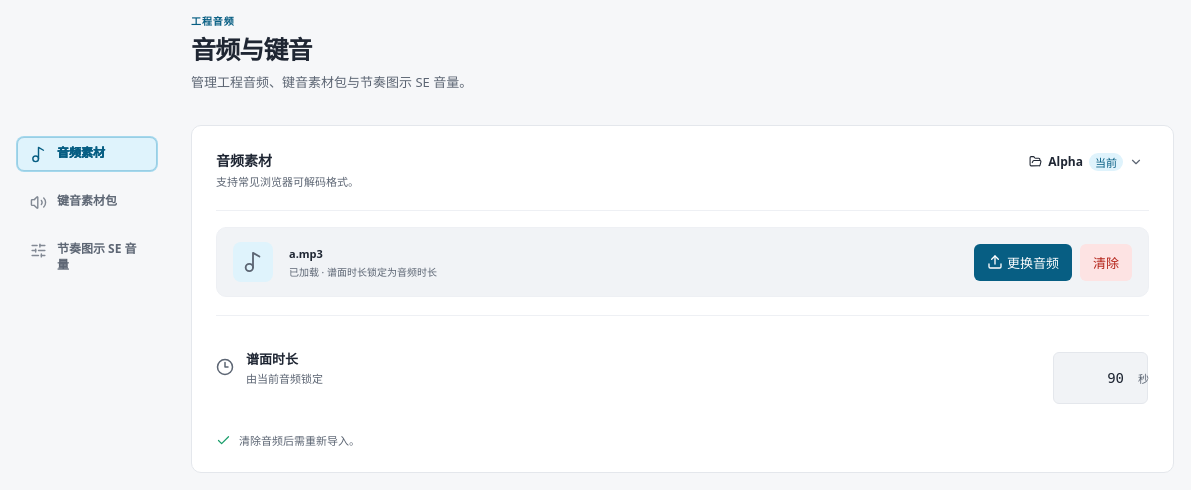
Test: 票 15 · 音频页 = 工程音频的唯一管理入口（作用域版） › 换作用域的那一瞬作用域条也不断档：先说出新工程的名字，正文再跟上
Expected: the text "a.mp3" is shown, [289,246,323,260]
Click the button with aria-label "作用域工程：".
click(1086, 162)  # box [1023,150,1149,174]
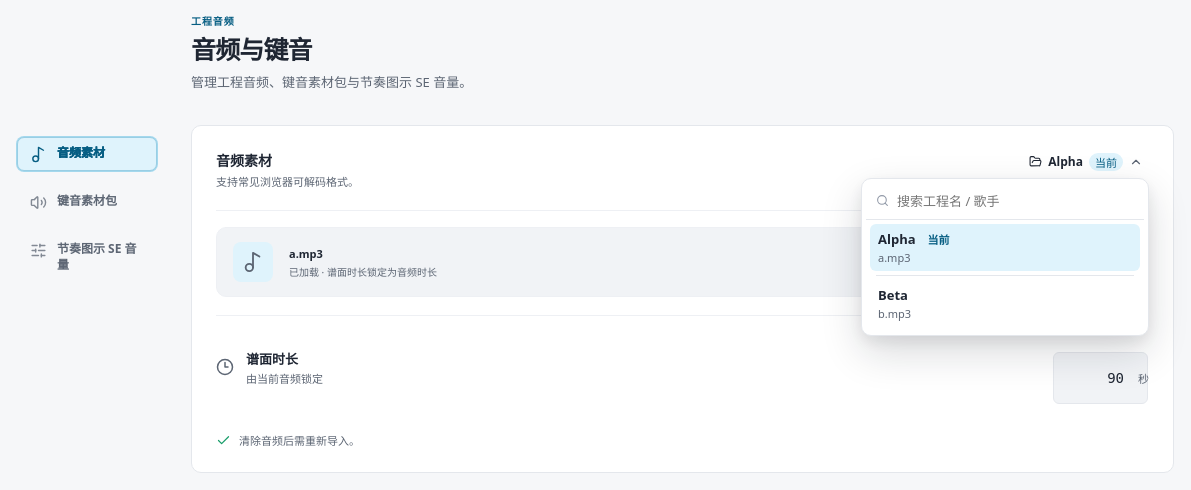
Click the option "Beta b.mp3".
click(895, 313)  # box [870,280,1140,326]
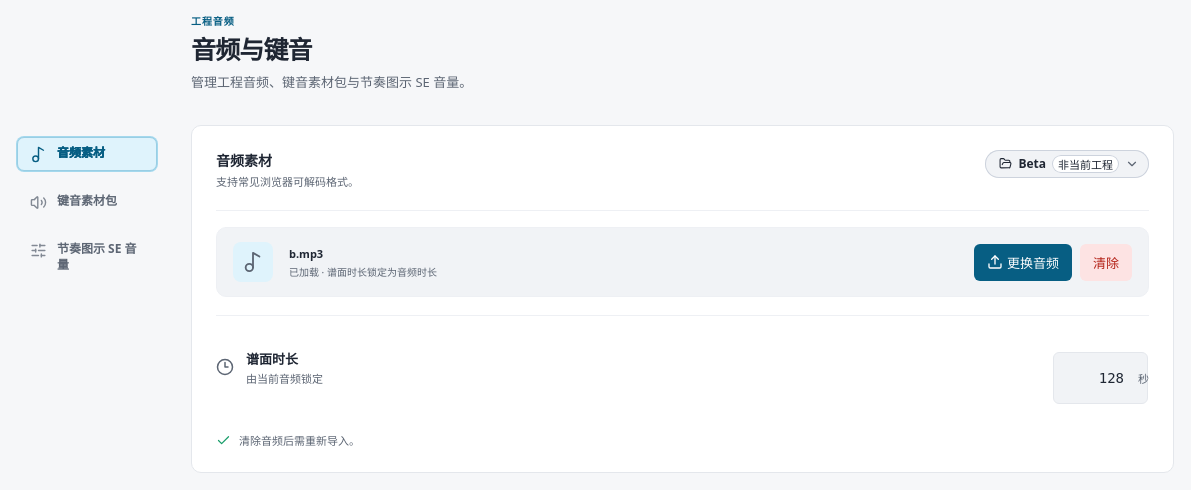
Now the button with aria-label "作用域工程：" shows "Beta", box [993,152,1145,176]
Now the text "非当前工程" is shown, box [1052,154,1119,172]
Now the text "b.mp3" is shown, box [289,246,323,260]
